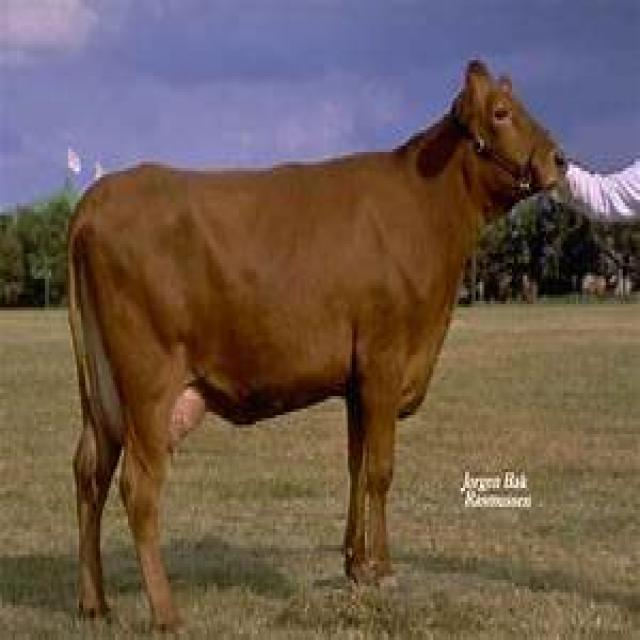cow: (64, 60, 640, 630)
